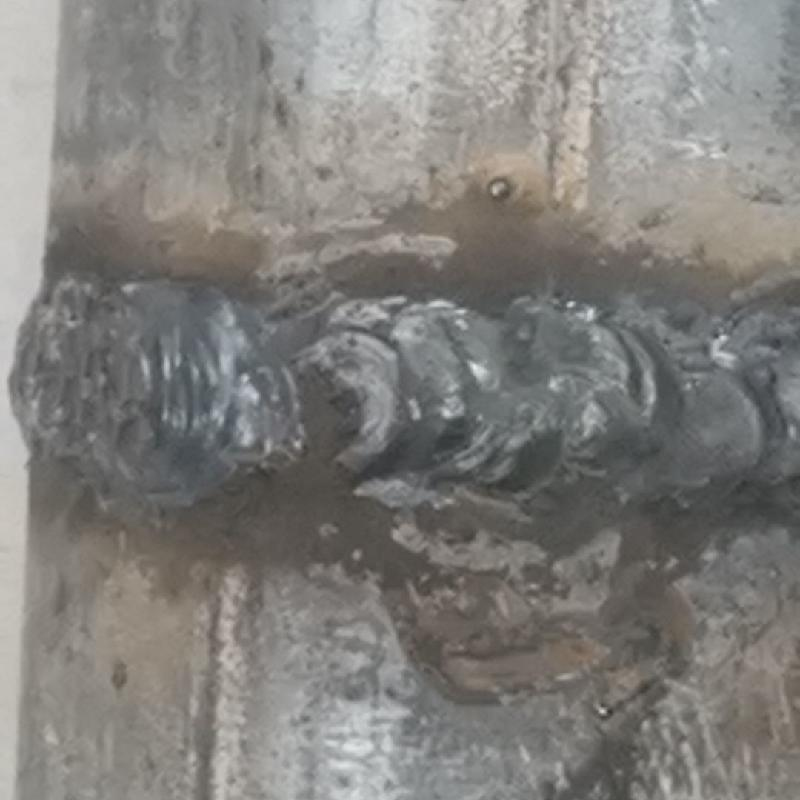good: (0, 261, 799, 513)
